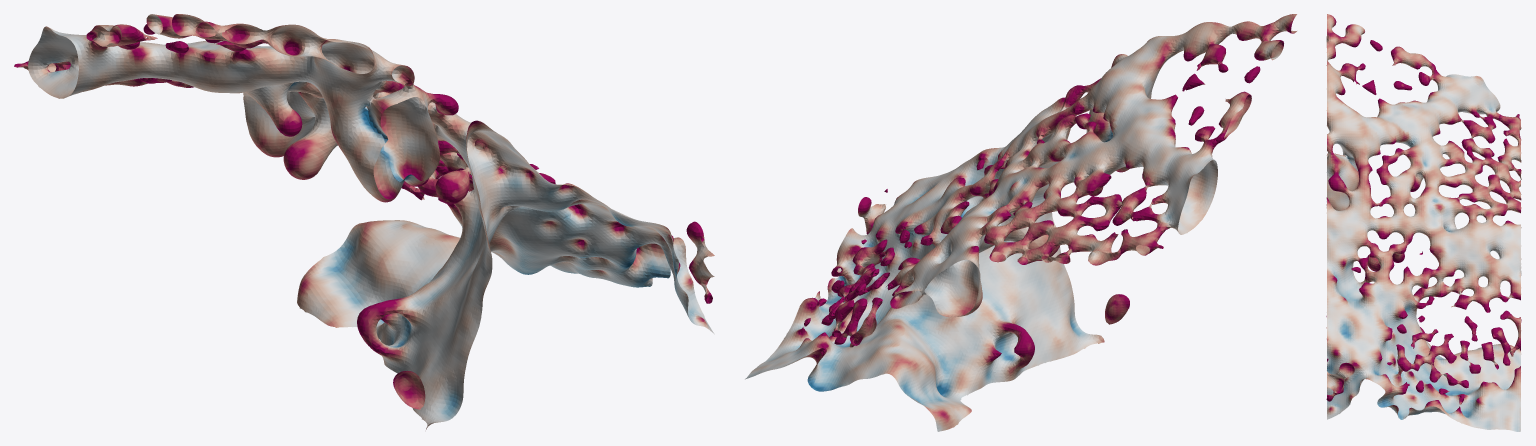
File: crop1134_deviation.glb
3 views of the same model, side by side, from view 1: azimuth 30°, elevation 25°; view 2: azimuth 150°, elevation 25°; view 3: azimuth 270°, elevation 25° (orthographic). The views are drawn at different scales.
Visible parts, largest first — view 1: world; view 2: world; view 3: world.
Part boxes in pixels (x1=…): world: x1=14, y1=14, x2=714, y2=429; world: x1=745, y1=14, x2=1296, y2=431; world: x1=1326, y1=14, x2=1521, y2=431.
Size of the model in its own units: 2680 by 2281 by 1480.
